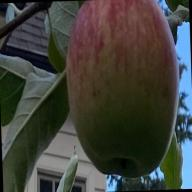Apples: (65, 0, 183, 179)
